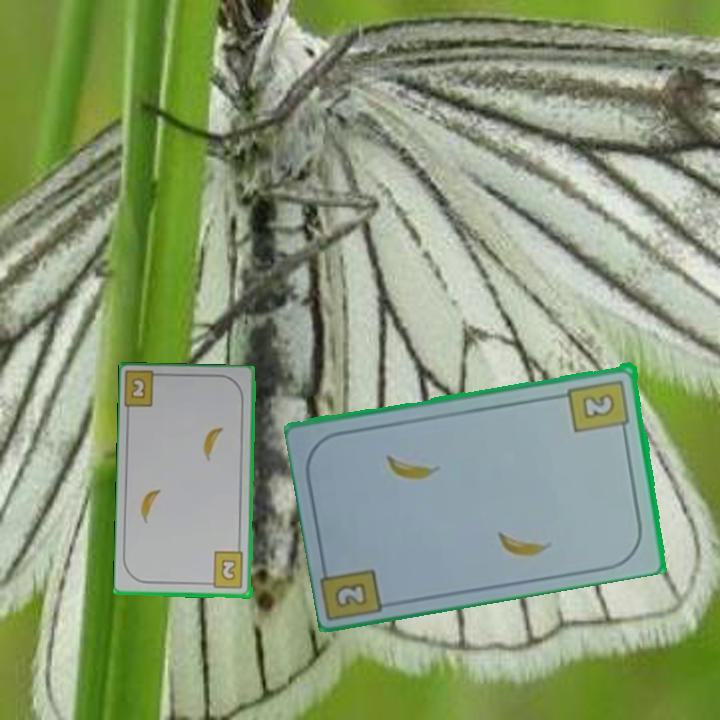2b: (319, 557, 389, 622), (565, 375, 633, 437), (204, 549, 246, 591), (127, 374, 149, 402)
